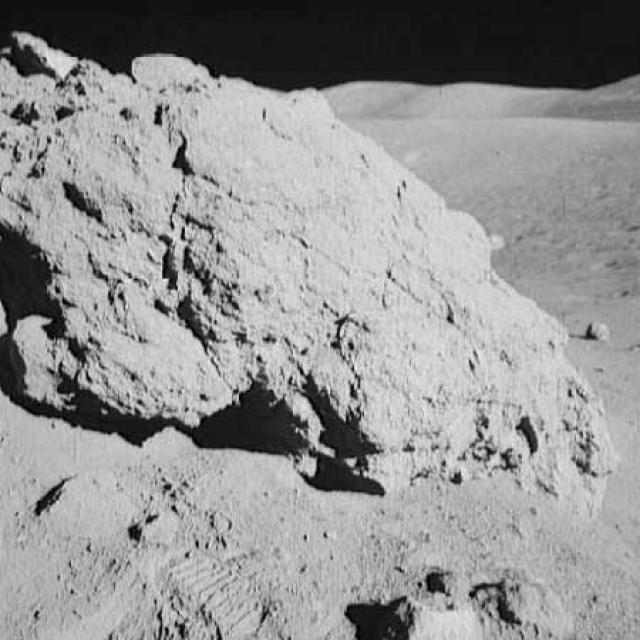rock: (498, 568, 577, 635), (400, 593, 492, 639), (581, 314, 614, 350)
